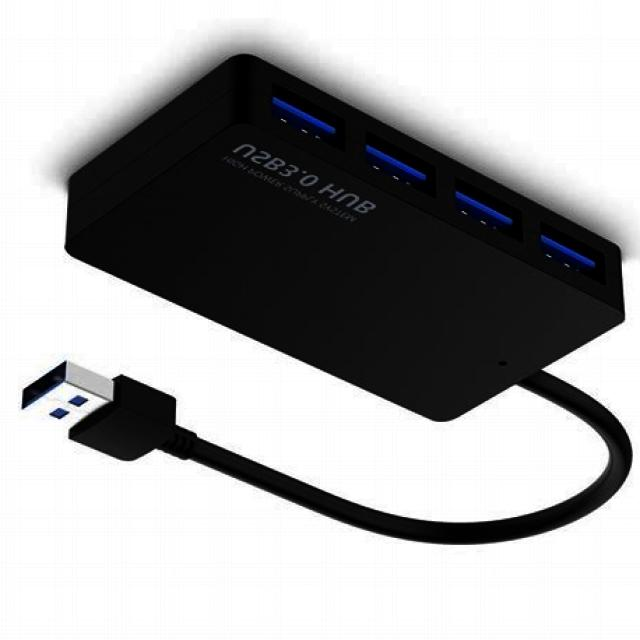usb port: (266, 95, 342, 141), (534, 232, 605, 277), (356, 148, 439, 186), (450, 197, 524, 231)
